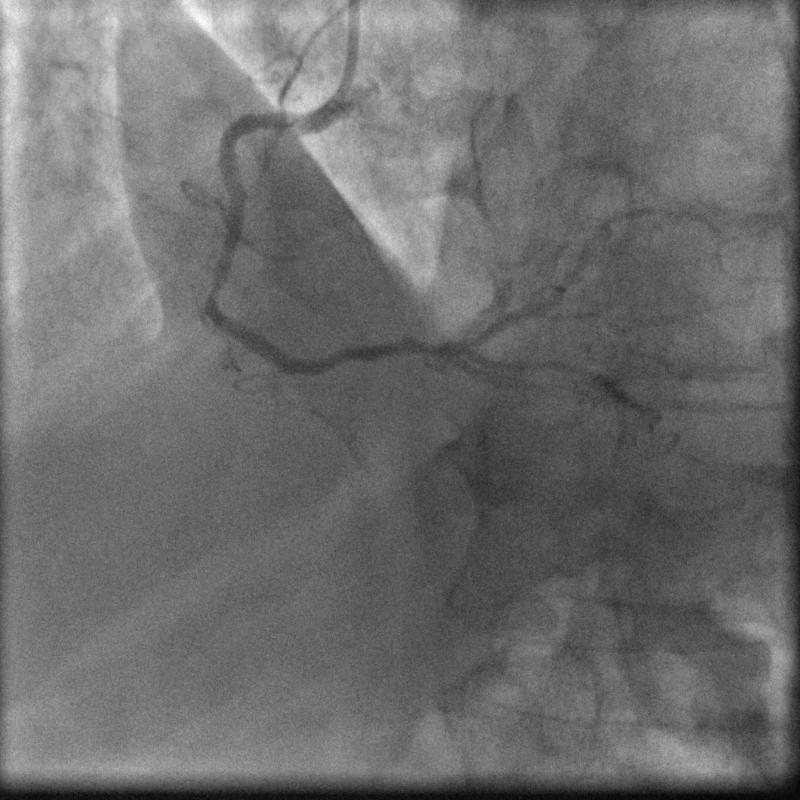Stenosis: (202, 278, 228, 302)
